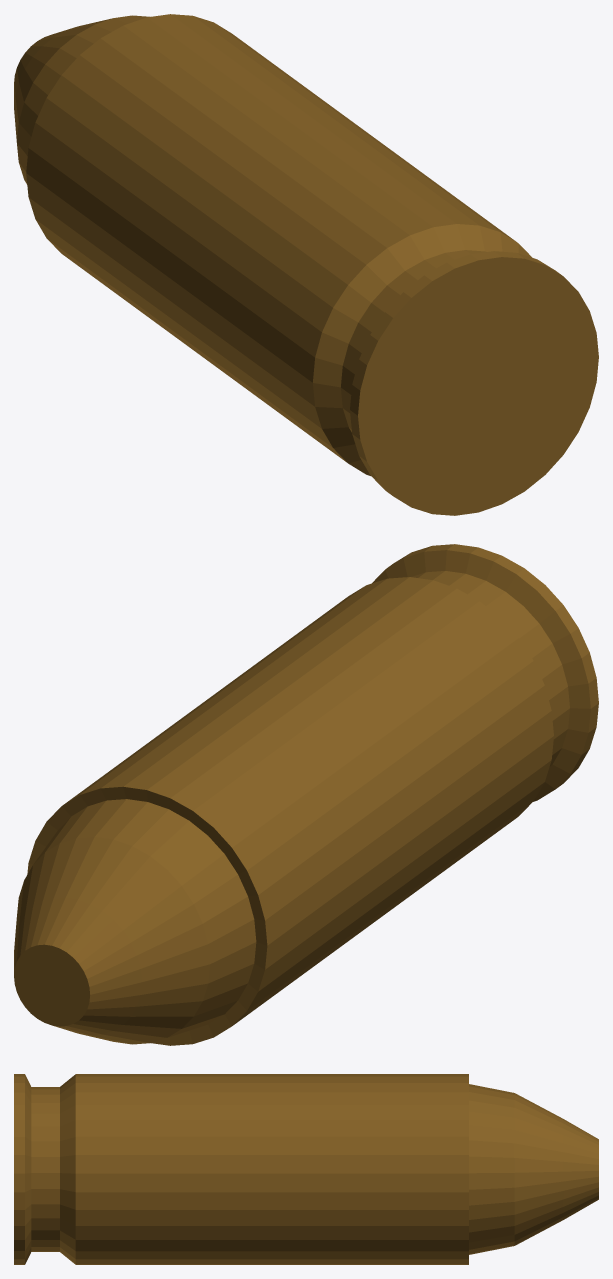
File: bala.fbx
The picture shows the model from 3 angles, top to bottom: view 1: azimuth 30°, elevation 25°; view 2: azimuth 150°, elevation 25°; view 3: azimuth 270°, elevation 25°; orthographic projection. The views are drawn at different scales.
Parts seen in each view (by area): view 1: Cylinder; view 2: Cylinder; view 3: Cylinder.
Part boxes in pixels (x1=…): Cylinder: x1=14, y1=14, x2=598, y2=515; Cylinder: x1=14, y1=544, x2=598, y2=1045; Cylinder: x1=14, y1=1074, x2=598, y2=1264.
Bounding box in the file's own units: 223 × 223 × 681.
